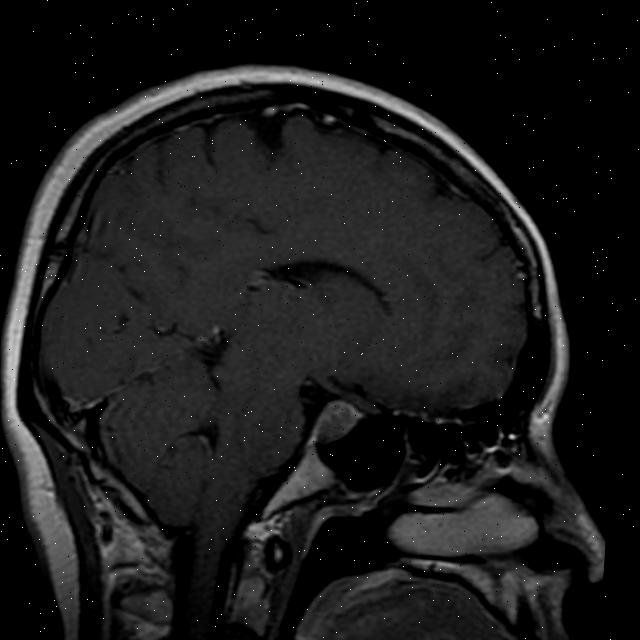Pituitary: (309, 396, 367, 446)
